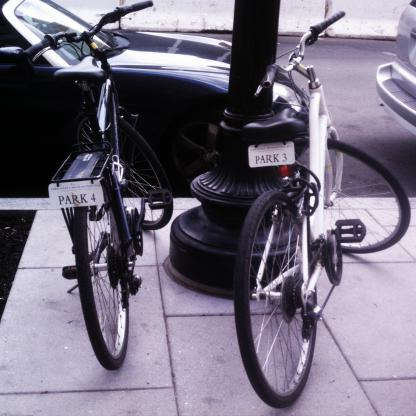Car: (0, 0, 310, 198), (376, 0, 415, 137)
